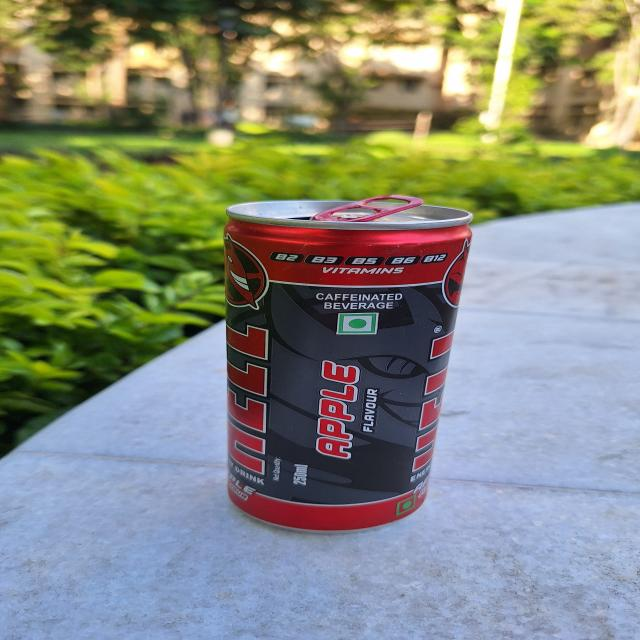Hell Apple: (212, 198, 473, 530)
